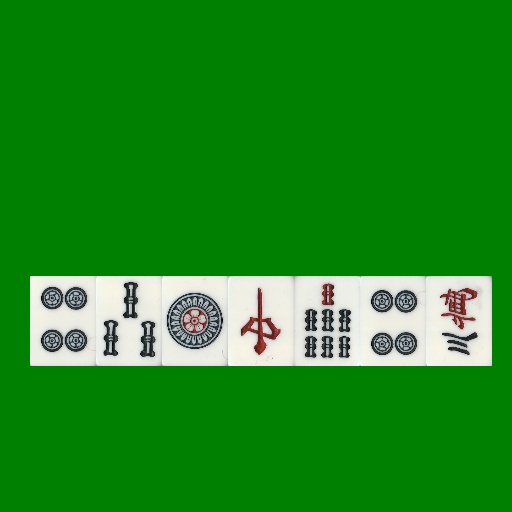1p: (162, 276, 228, 366)
3m: (426, 276, 492, 366)
3s: (96, 276, 162, 366)
4p: (30, 276, 96, 366), (360, 276, 426, 366)
7s: (294, 276, 360, 366)
tyun: (228, 276, 294, 366)
